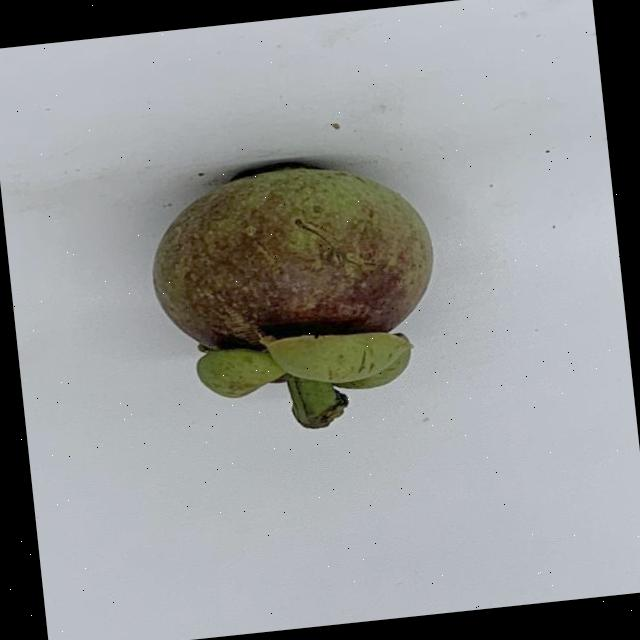mangosteen: (119, 126, 450, 450)
